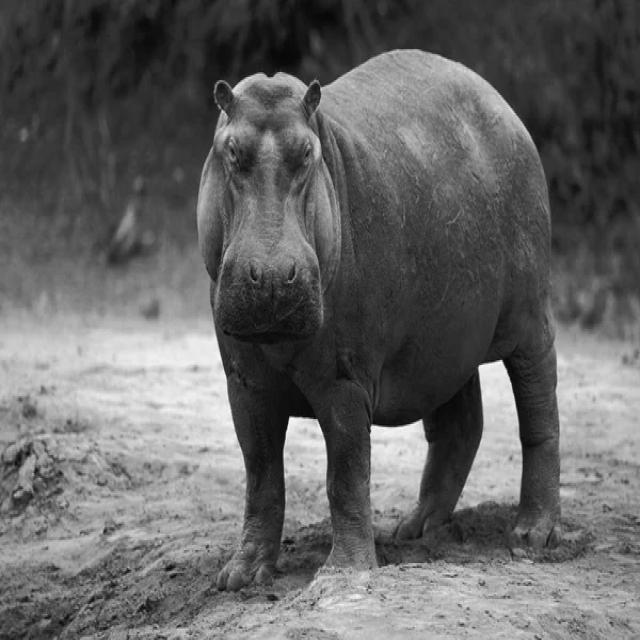Animal: (189, 32, 558, 592)
